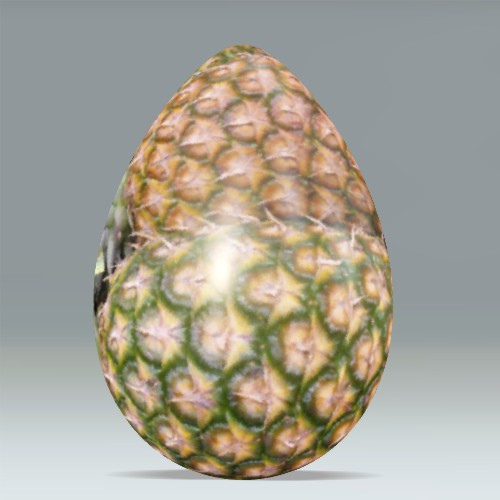pineapple: (88, 42, 395, 480)
